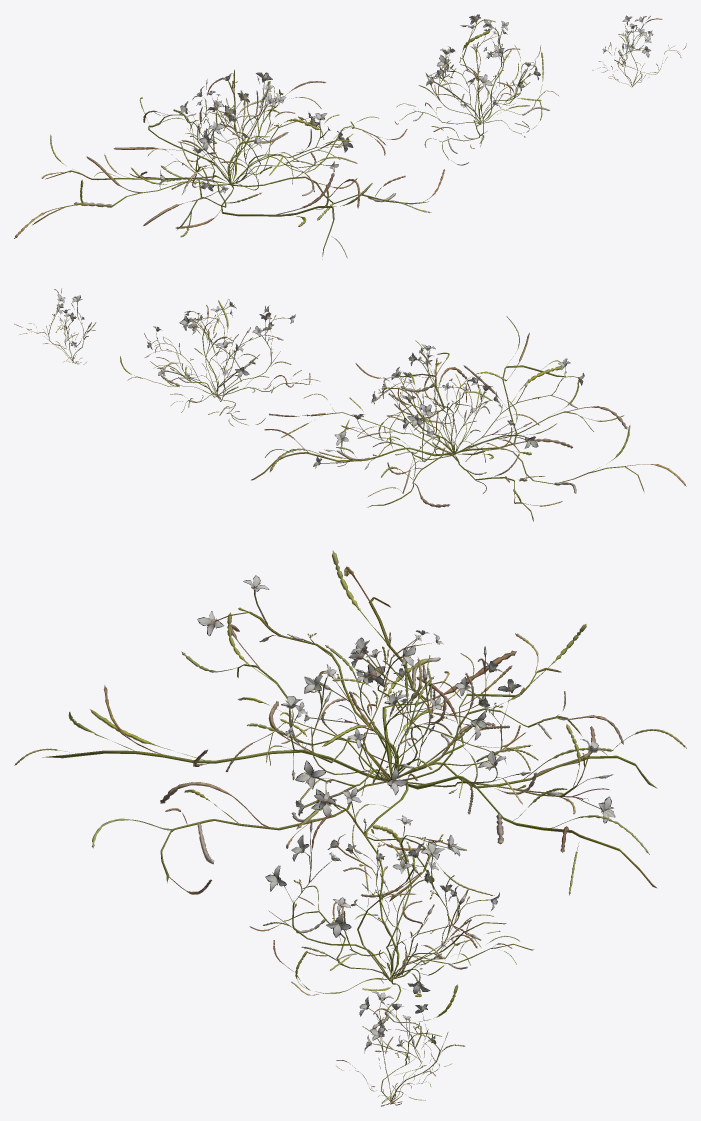
File: flower_heliophila.glb
The picture shows the model from 3 angles, top to bottom: view 1: azimuth 30°, elevation 25°; view 2: azimuth 150°, elevation 25°; view 3: azimuth 270°, elevation 25°; orthographic projection. The views are drawn at different scales.
Parts seen in each view (by area): view 1: flower_heliophila_large; view 2: flower_heliophila_large; view 3: flower_heliophila_large.
Part boxes in pixels (x1,y1,x2,y2): flower_heliophila_large: (14,14,686,259); flower_heliophila_large: (14,288,686,521); flower_heliophila_large: (14,550,686,1106).
Size of the model in its own units: 2.75 by 0.3994 by 1.42.
Materials: 1 (1 with a texture image).
